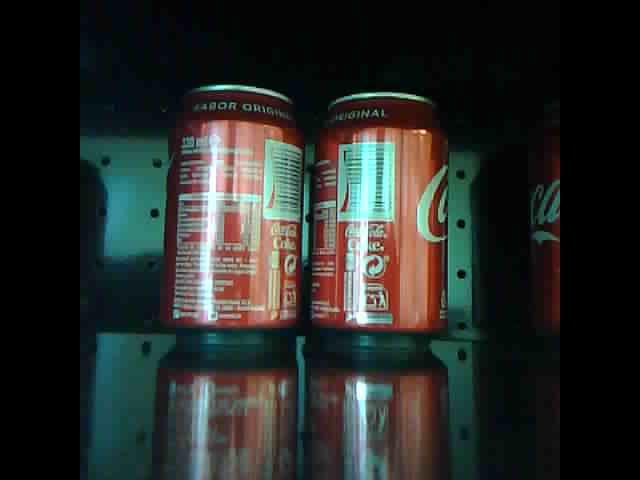coca cola: (166, 84, 304, 352), (312, 90, 450, 350), (523, 114, 560, 337)
